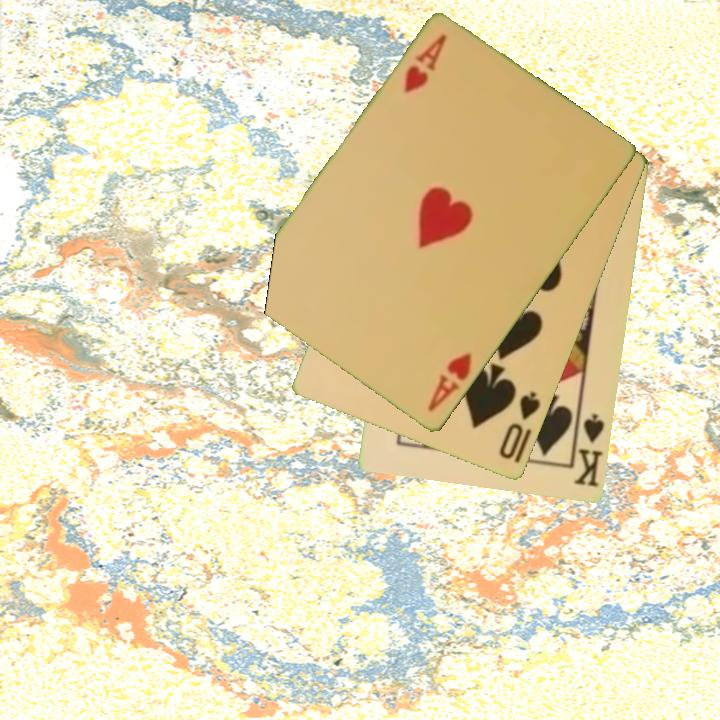10s: (496, 388, 544, 463)
Ah: (424, 349, 475, 415), (400, 31, 450, 97)
Ks: (568, 407, 608, 491)
